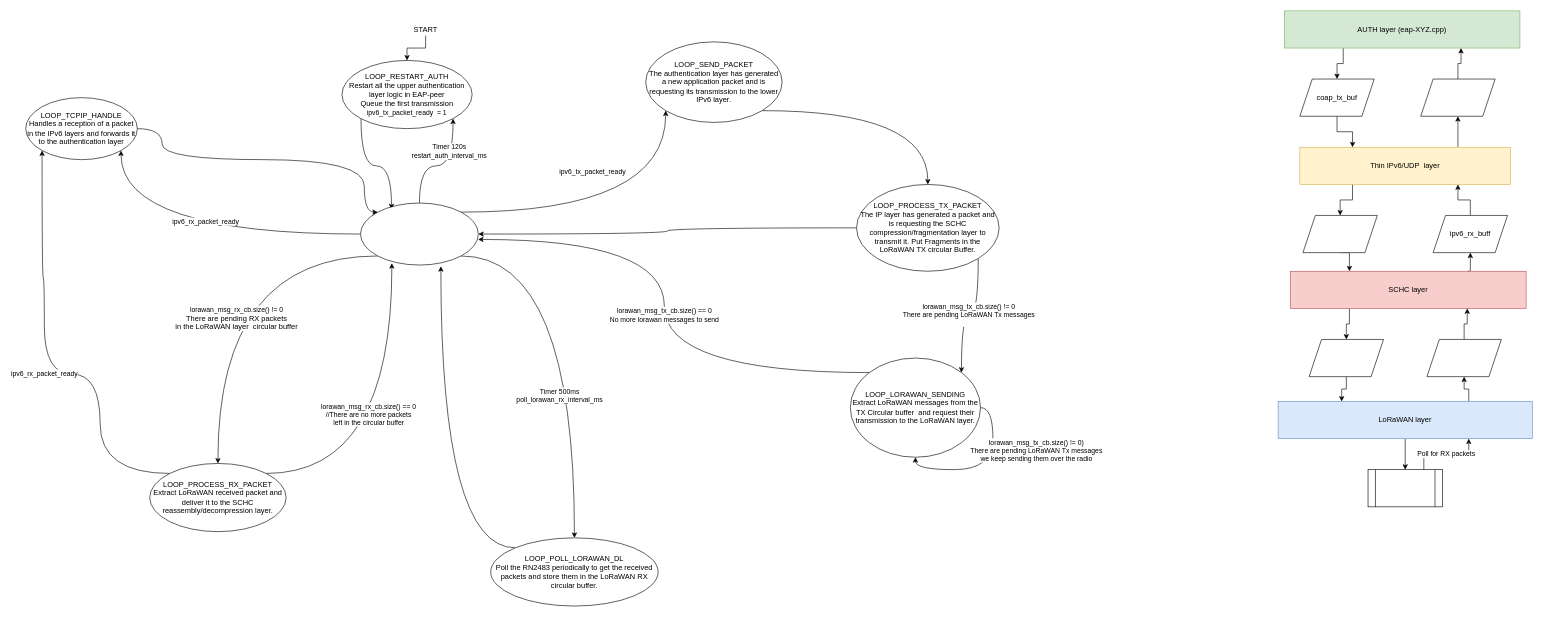
Some shapes in this 1543 by 617 pixel diagram are drawn without their labels. The shapes that lost their labels are listed below. From the top down, each one's centre as x and y in pixels, then its label:
the point at 1457,97: uip_appdata
the point at 419,233: LOOP_READY Core state, does all the checks and is selected during idle time
the point at 1339,234: udpIp6_packet (IPv6 Packet) TX
the point at 1346,358: LoRaWAN TX CB
the point at 1463,358: LoRaWAN RX CB
the point at 1404,488: Microchip RN248 Sodaq_RN2483
